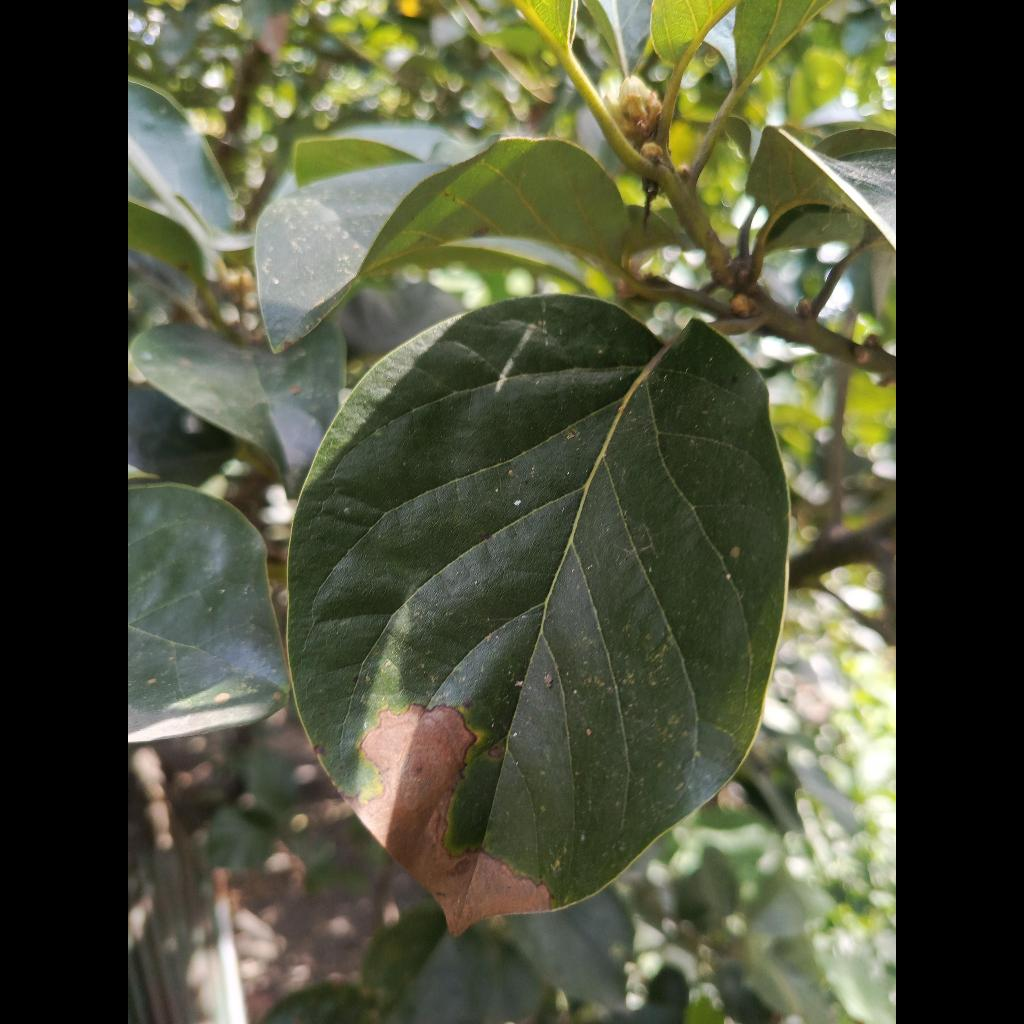antracnosis_hoja: (289, 296, 789, 933)
